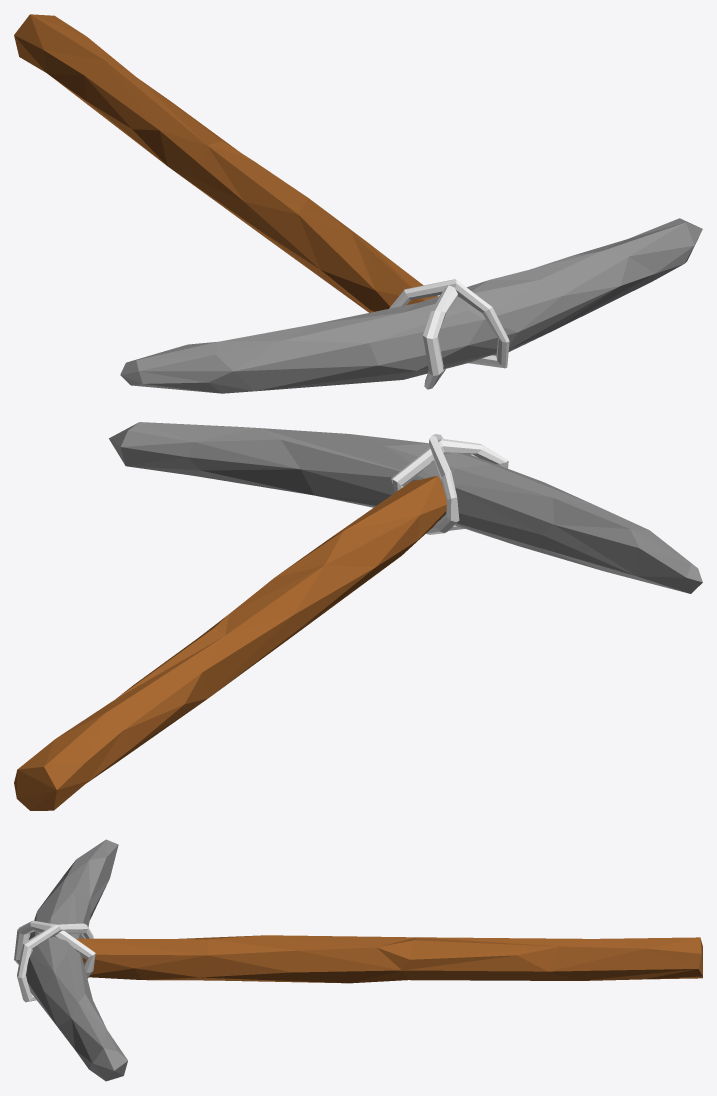
File: Rockstalk.fbx
3 renders of one model, top to bottom at view 1: azimuth 30°, elevation 25°; view 2: azimuth 150°, elevation 25°; view 3: azimuth 270°, elevation 25°, orthographic. The views are drawn at different scales.
Parts seen in each view (by area): view 1: Rockstalk; view 2: Rockstalk; view 3: Rockstalk.
Part boxes in pixels (bbox=[...]): Rockstalk: bbox=[14, 14, 702, 393]; Rockstalk: bbox=[14, 422, 702, 810]; Rockstalk: bbox=[14, 839, 702, 1081].
Bounding box in the file's own units: 0.5322 × 0.079 × 0.6821.
